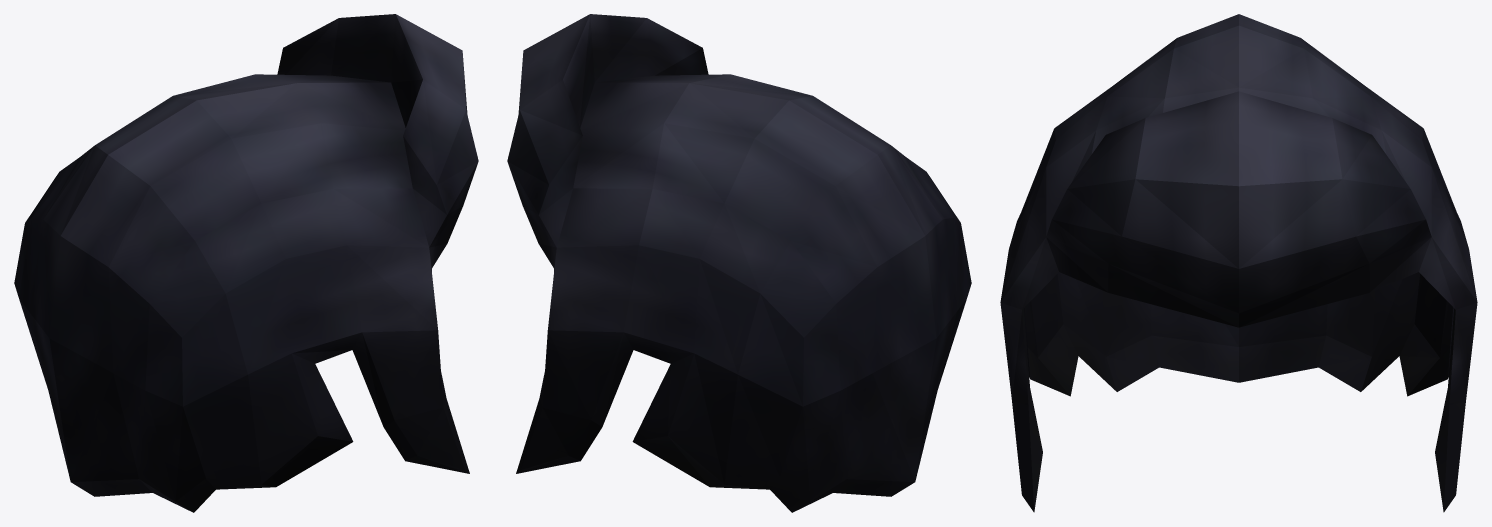
Rendered from TUX HAIR.fbx.
3 renders of one model, left to right at view 1: azimuth 30°, elevation 25°; view 2: azimuth 150°, elevation 25°; view 3: azimuth 270°, elevation 25°, orthographic. The views are drawn at different scales.
Parts seen in each view (by area): view 1: TUX_HAIR; view 2: TUX_HAIR; view 3: TUX_HAIR.
Part boxes in pixels (x1,y1,x2,y2): TUX_HAIR: (14,14,478,512); TUX_HAIR: (507,14,971,512); TUX_HAIR: (1000,14,1477,512).
Bounding box in the file's own units: 29.45 × 27.53 × 26.18.
